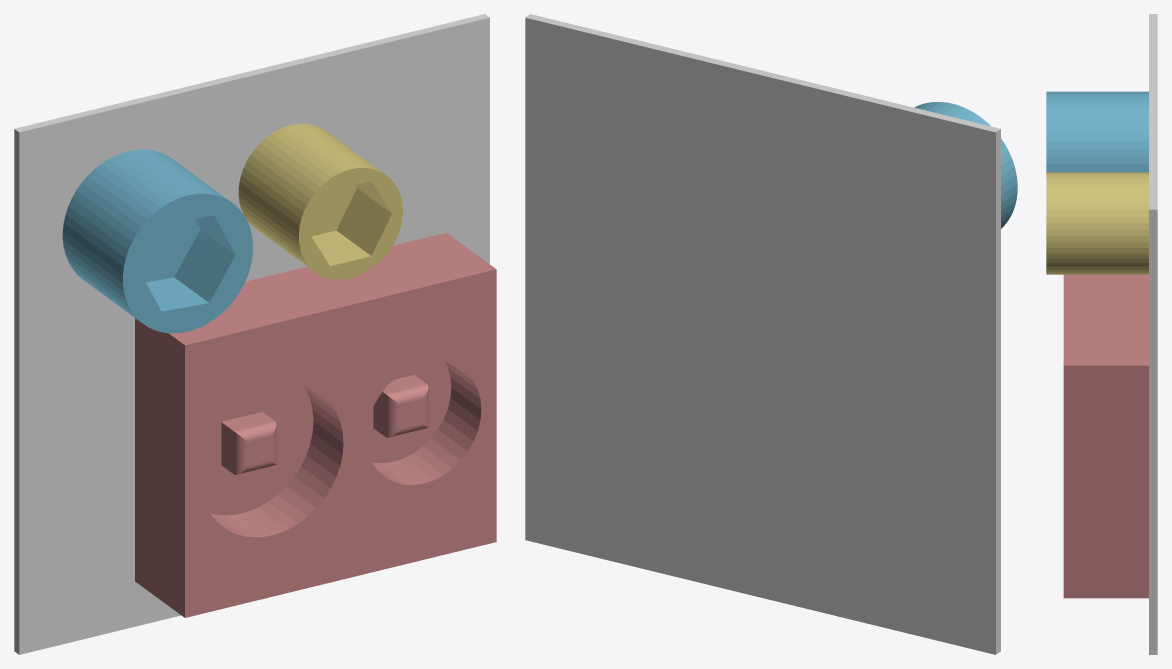
File: pickup_layout.glb
3 renders of one model, left to right at view 1: azimuth 30°, elevation 25°; view 2: azimuth 150°, elevation 25°; view 3: azimuth 270°, elevation 25°, orthographic. The views are drawn at different scales.
Visible parts, largest first — view 1: 0.obj, world, 2.obj, 1.obj; view 2: world, 2.obj; view 3: 0.obj, 1.obj, 2.obj, world.
Part boxes in pixels (<box>): 0.obj: <box>135,232,496,617</box>; world: <box>14,14,489,654</box>; 2.obj: <box>62,149,252,333</box>; 1.obj: <box>238,123,402,279</box>; world: <box>525,14,1000,654</box>; 2.obj: <box>914,102,1017,228</box>; 0.obj: <box>1063,274,1148,598</box>; 1.obj: <box>1046,172,1148,274</box>; 2.obj: <box>1046,91,1148,172</box>; world: <box>1149,14,1157,654</box>.
Bounding box in the file's own units: 10.83 × 11.5 × 2.6.
